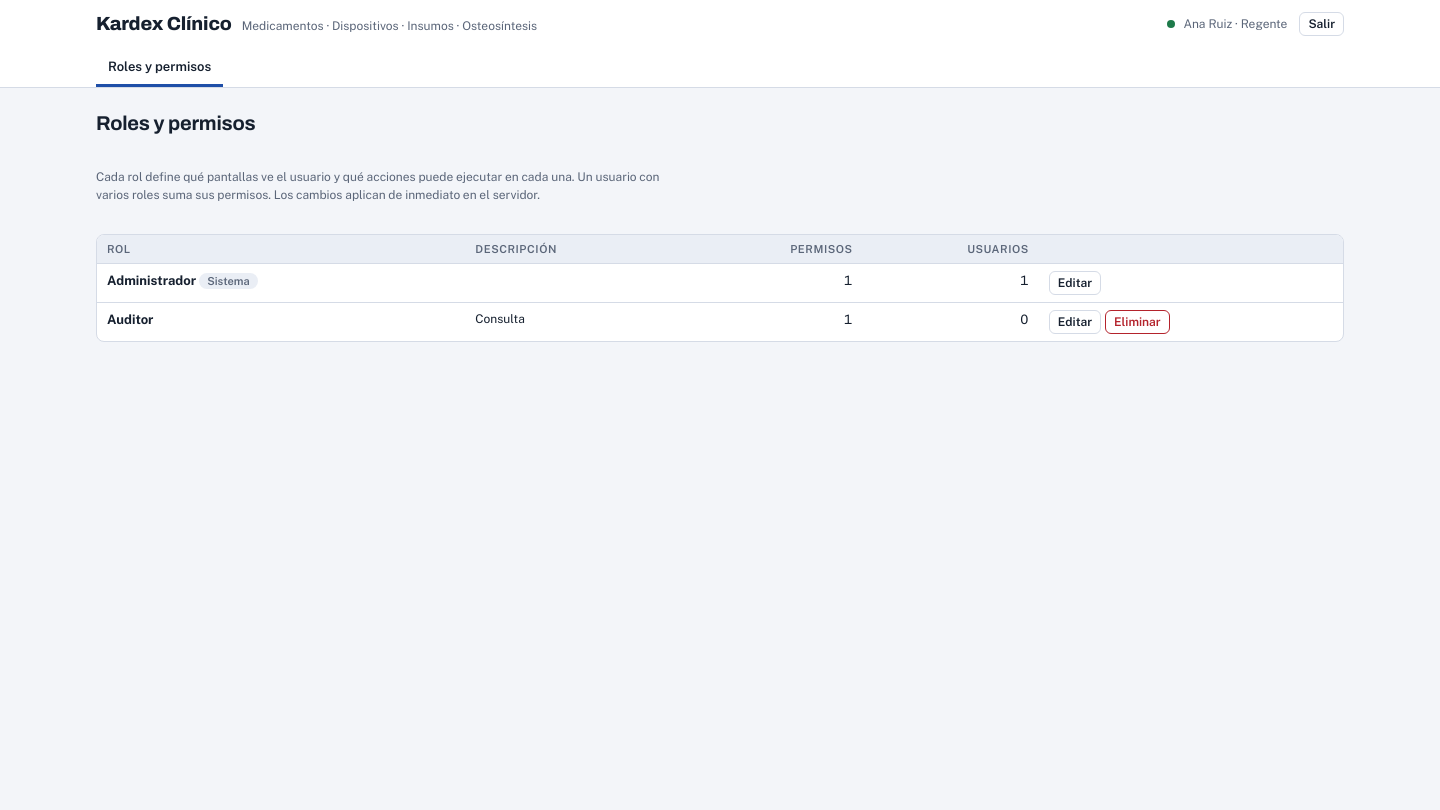
it: roles y matriz de permisos › el rol de sistema no permite cambiar permisos ni eliminarse
The width and height of the screenshot is (1440, 810).
Click the button "Editar" in the row of "Administrador": (1075, 282) [1049, 270, 1101, 294]
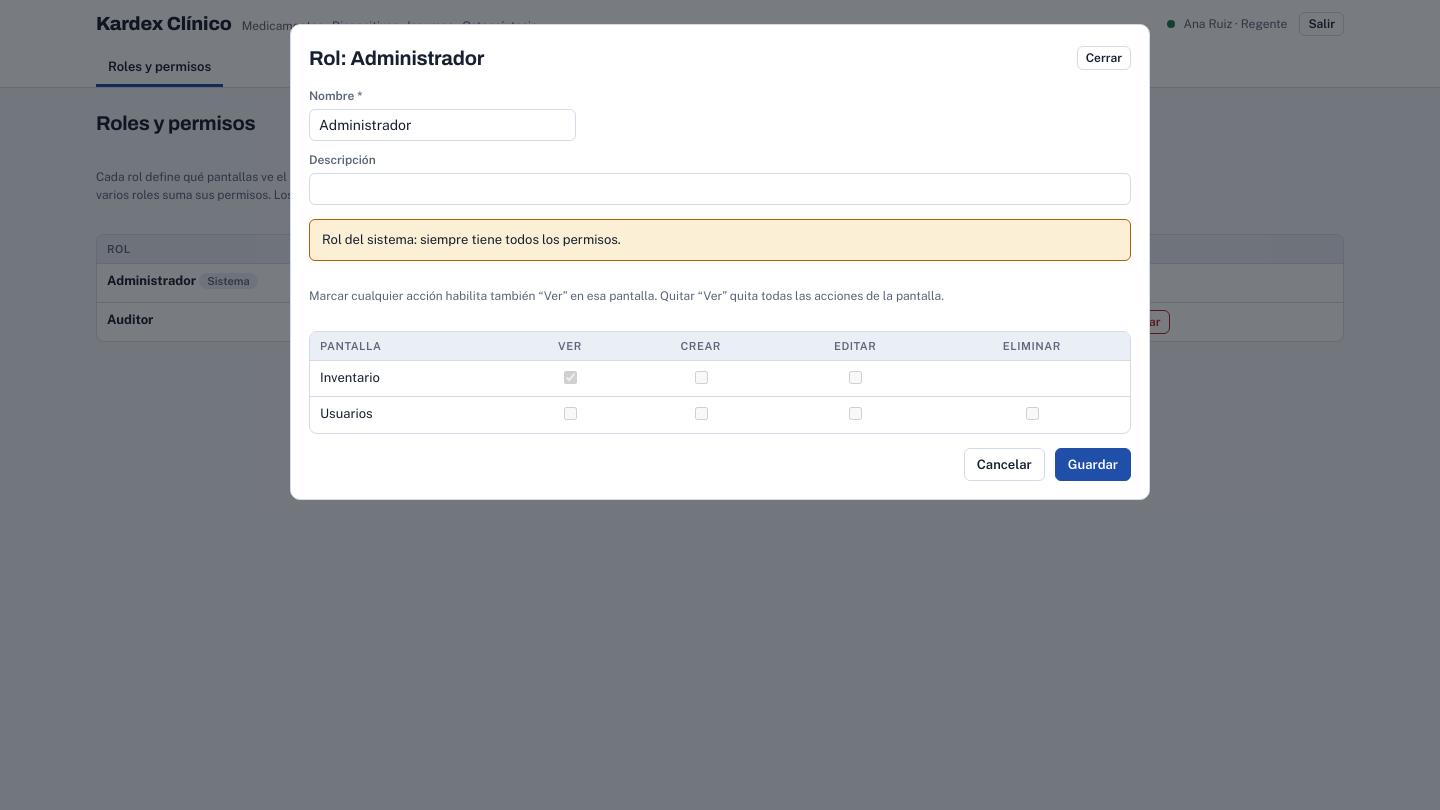
Check: the checkbox named "Inventario: Ver" is disabled, box [564, 370, 577, 384]
